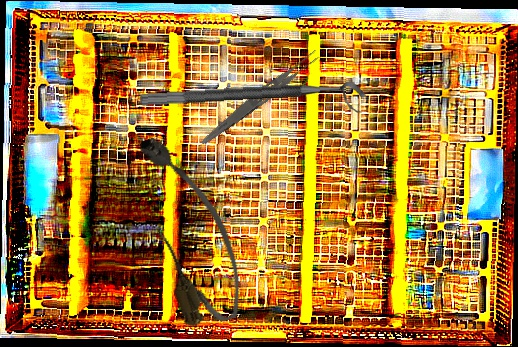Cannula: (126, 124, 254, 334)
Dressing Forceps: (198, 46, 323, 152)
Fixation Ring: (139, 80, 367, 125)
